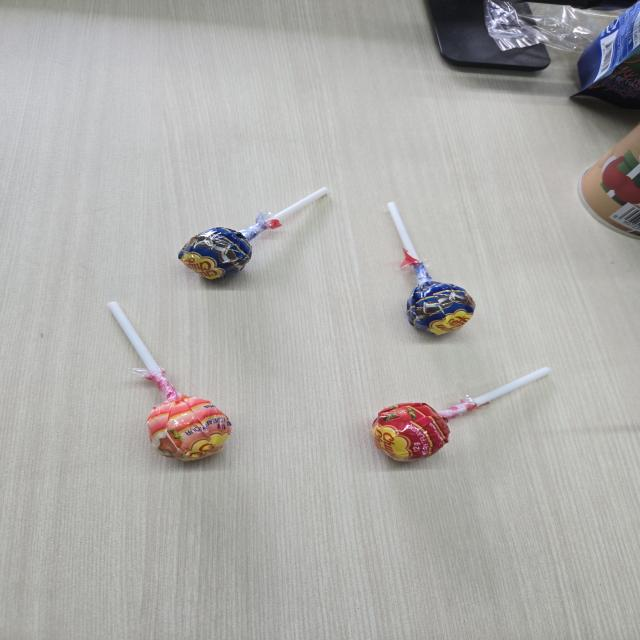lollipop: (101, 297, 238, 467), (368, 359, 555, 472), (176, 182, 334, 284), (383, 200, 482, 338)
